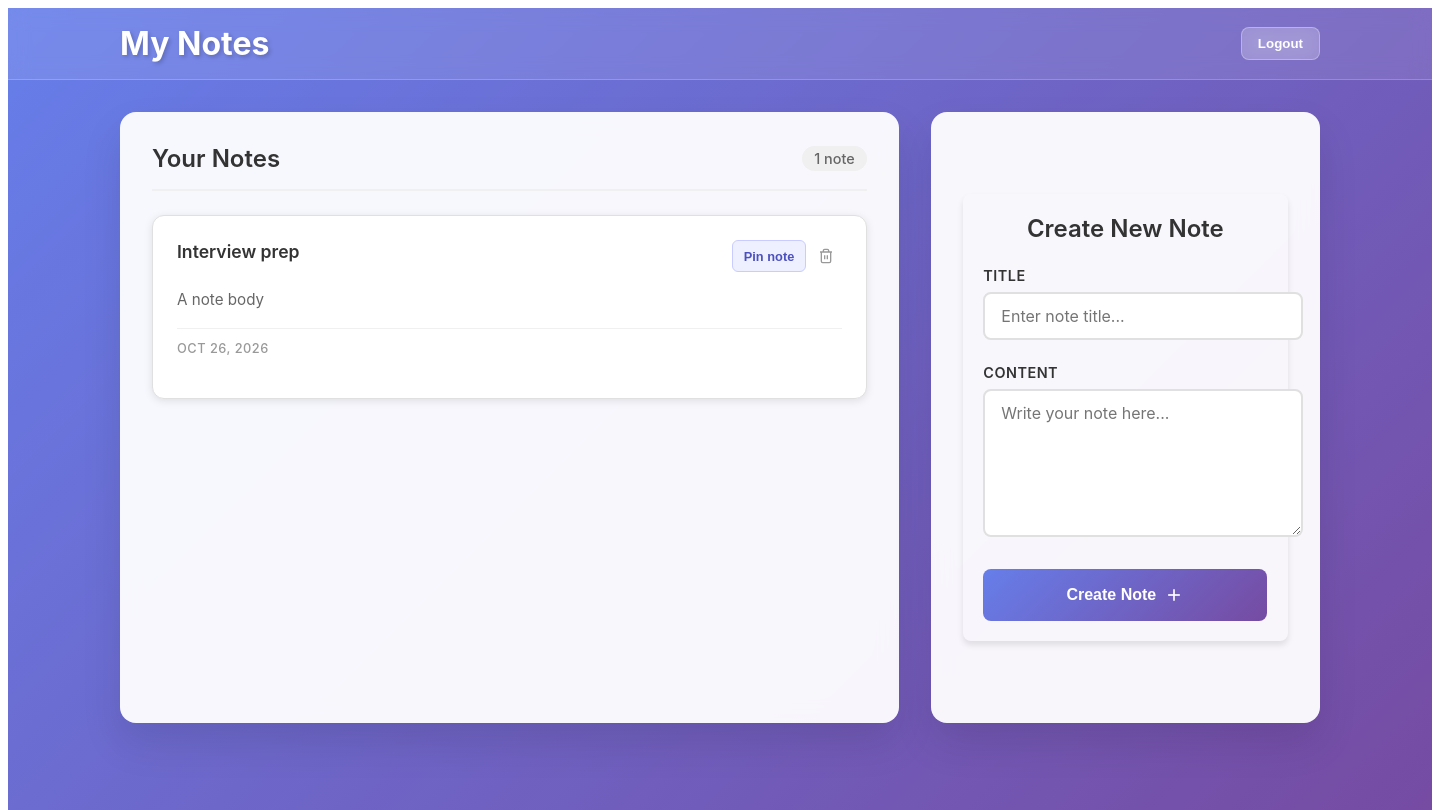
it: Home note pinning › disables the pin action while a request is pending
Click the button "Pin note" at (769, 256), box x1=732 y1=240 x2=806 y2=272
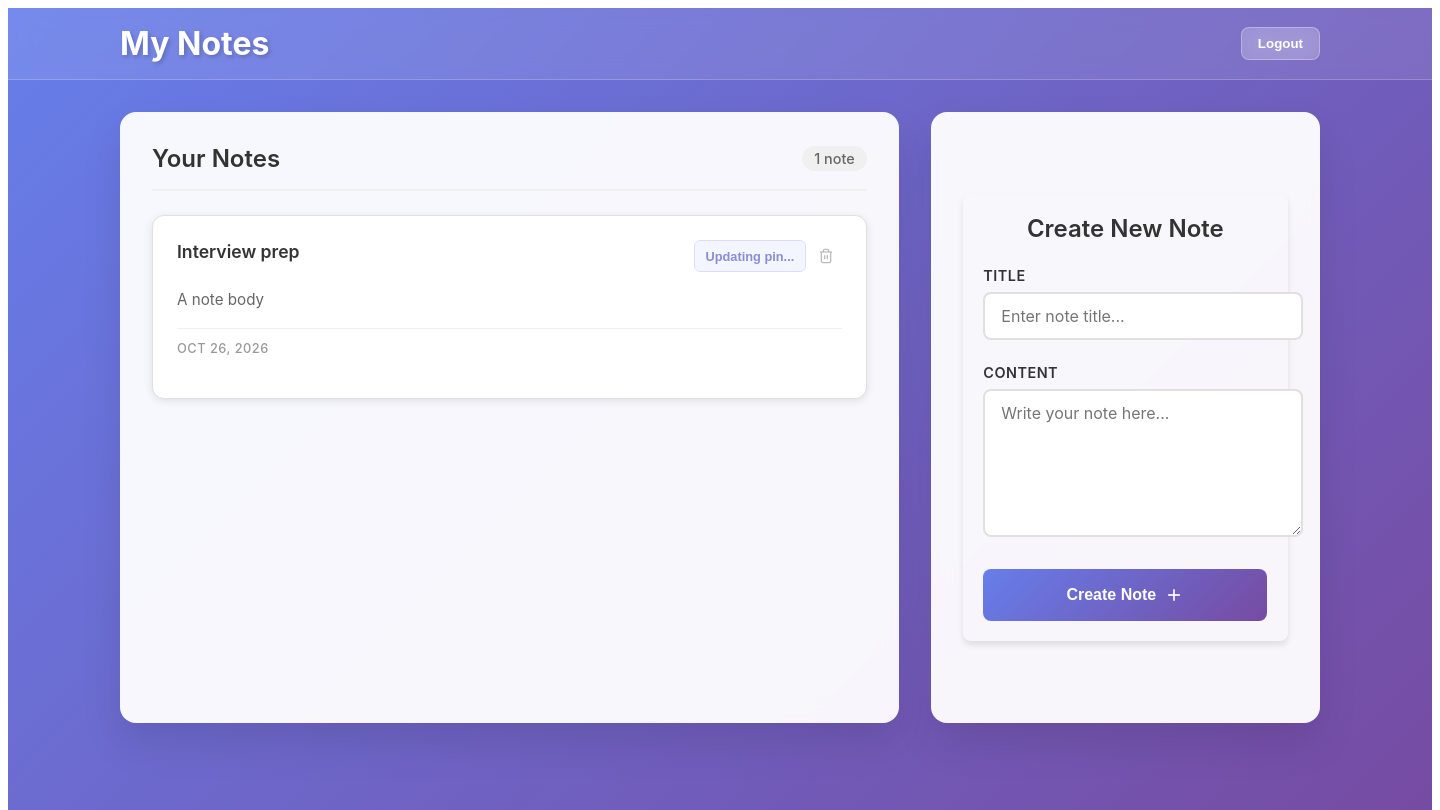
Expected: the button with aria-label "Updating pin status" is disabled
Click the button with aria-label "Updating pin status" at (750, 256), box x1=694 y1=240 x2=806 y2=272
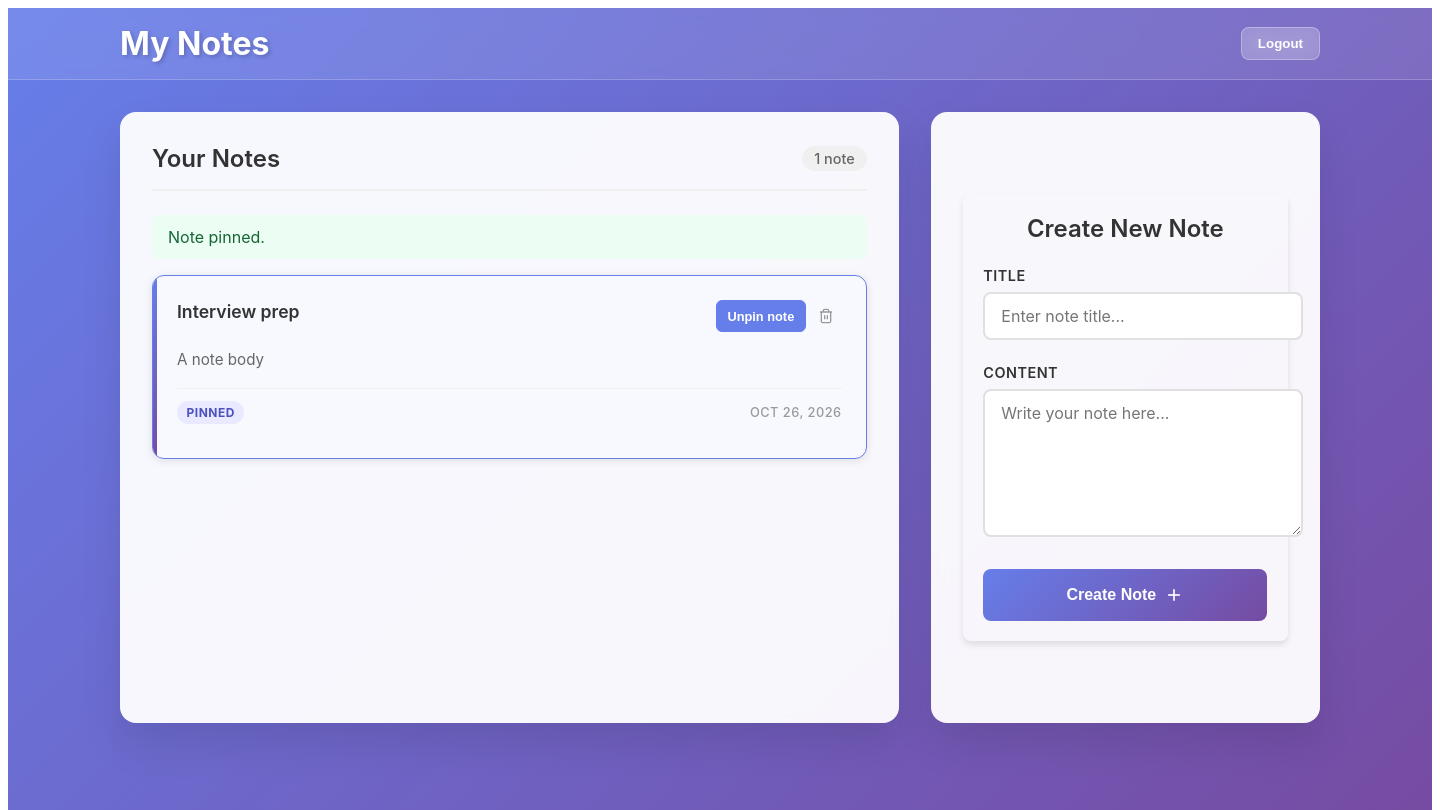
Expected: the button "Unpin note" is shown, x1=716 y1=300 x2=806 y2=332
